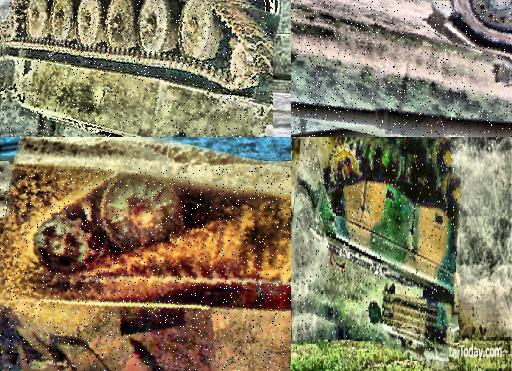tanks: (1, 169, 292, 371), (298, 143, 461, 371), (3, 1, 273, 138), (350, 138, 430, 152), (493, 138, 503, 142)
